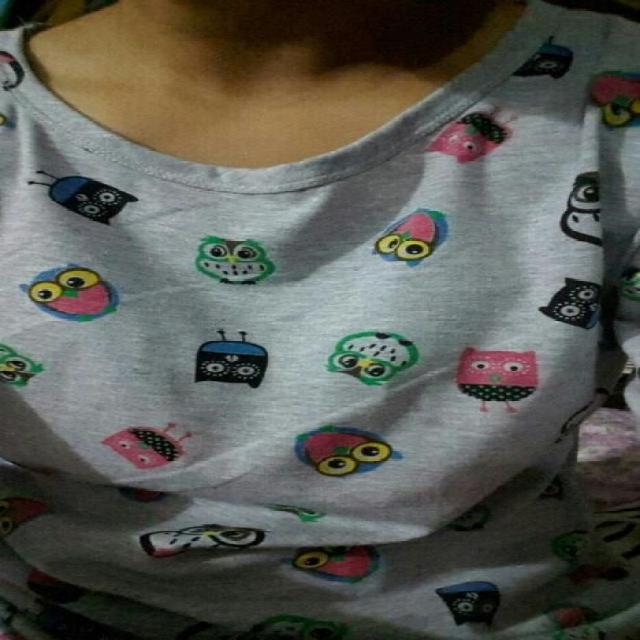short sleeve top: (3, 3, 637, 639)
